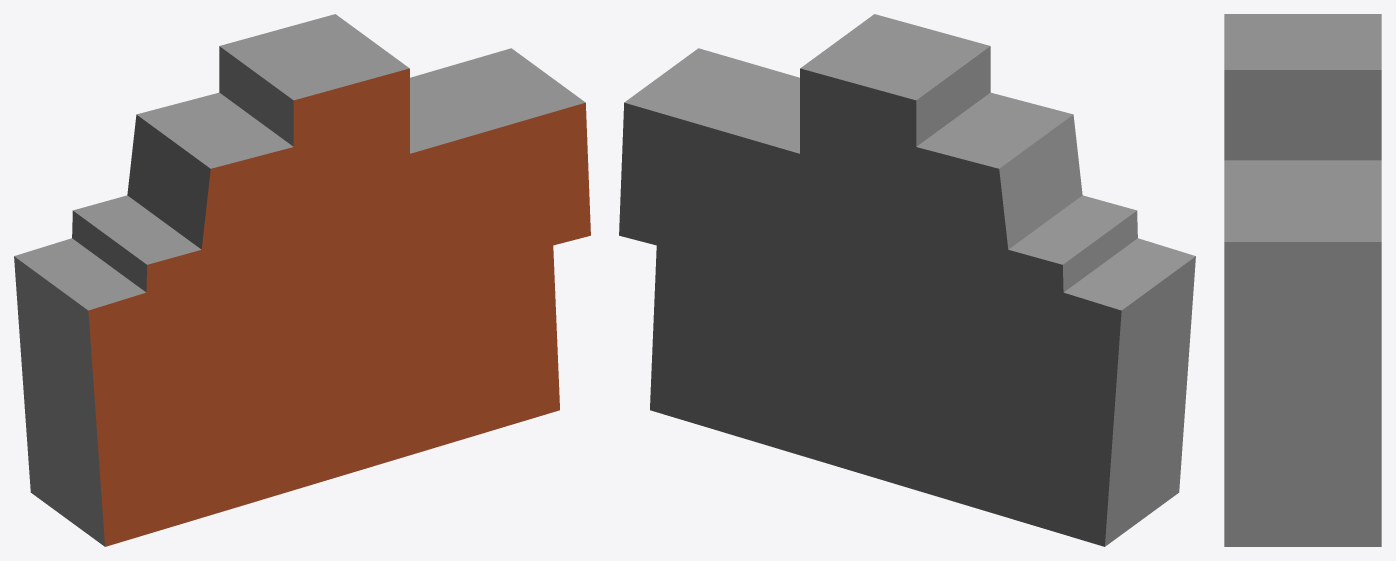
Rendered from construction_2624_assumed_A_Casa_h6m.obj.
3 views of the same model, side by side, from view 1: azimuth 30°, elevation 25°; view 2: azimuth 150°, elevation 25°; view 3: azimuth 270°, elevation 25° (orthographic). The views are drawn at different scales.
Visible parts, largest first — view 1: construction_2624_assumed_A_Casa; view 2: construction_2624_assumed_A_Casa; view 3: construction_2624_assumed_A_Casa.
Boxes of the visible parts, box(x1,y1,x2,y2) form: construction_2624_assumed_A_Casa: box(14, 14, 590, 546); construction_2624_assumed_A_Casa: box(619, 14, 1195, 546); construction_2624_assumed_A_Casa: box(1224, 14, 1381, 546).
Bounding box in the file's own units: 23.42 × 18 × 6.
